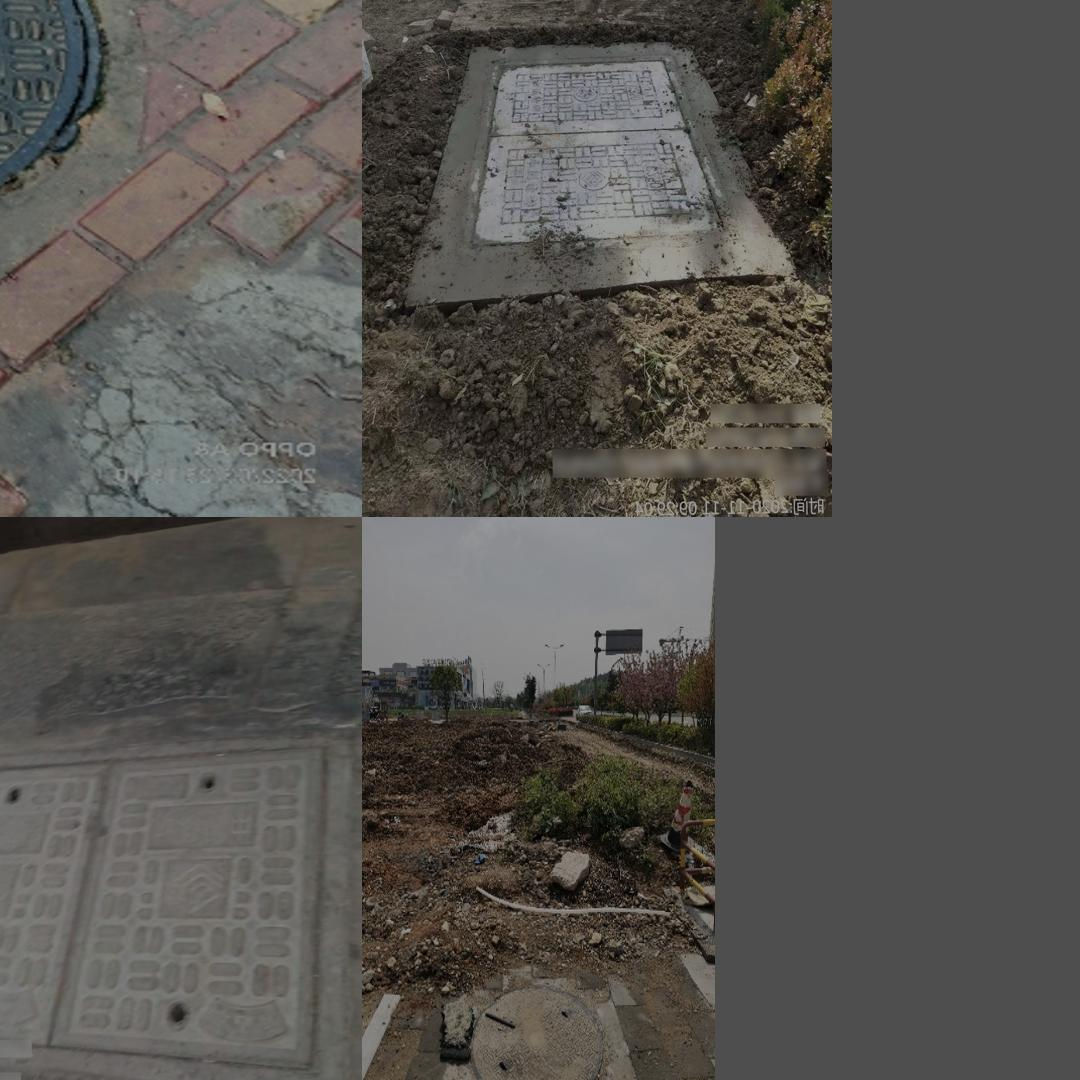good: (0, 742, 344, 1080), (411, 28, 772, 278), (0, 0, 101, 256), (471, 989, 609, 1080)
